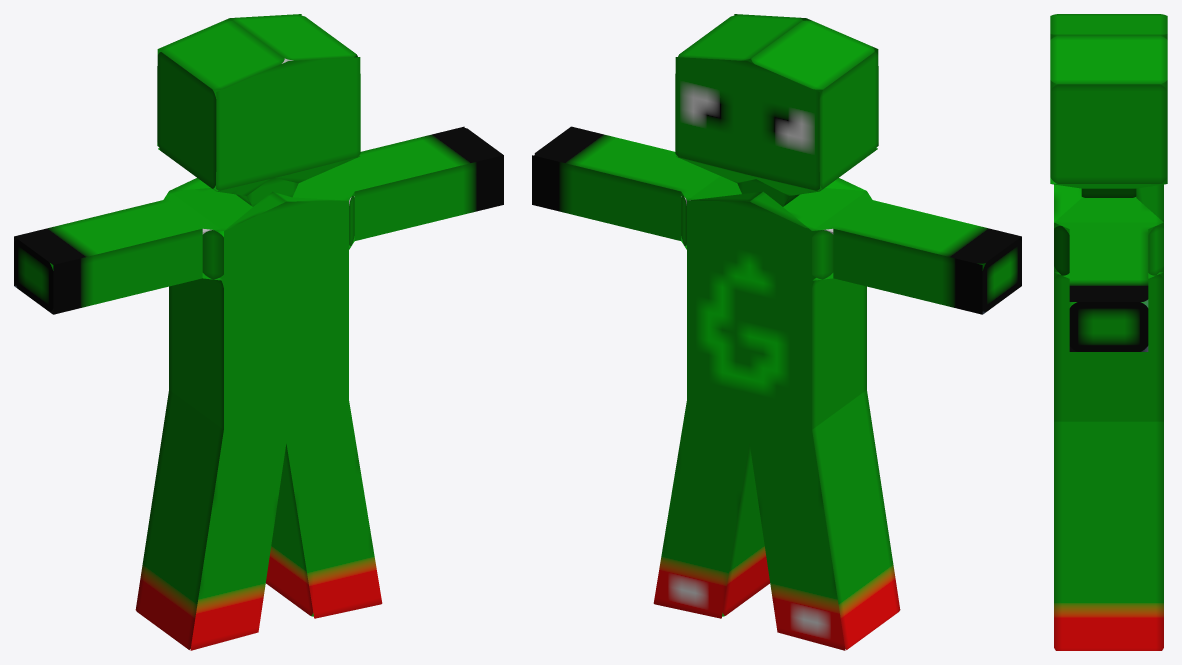
The model's file is GreenMan.obj.
The picture shows the model from 3 angles, left to right: view 1: azimuth 30°, elevation 25°; view 2: azimuth 150°, elevation 25°; view 3: azimuth 270°, elevation 25°; orthographic projection.
Visible parts, largest first — view 1: body; view 2: body; view 3: body.
Boxes of the visible parts, left/top/right/bottom form: body: left=14, top=14, right=503, bottom=650; body: left=532, top=14, right=1021, bottom=650; body: left=1050, top=14, right=1167, bottom=650.
Size of the model in its own units: 2.08 by 2.5 by 0.4688.
